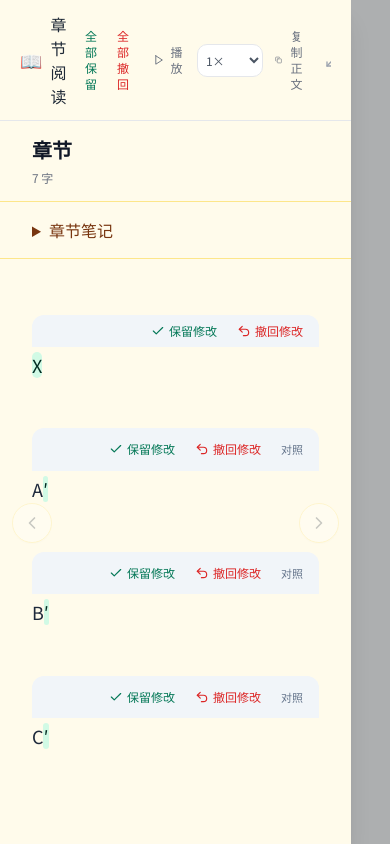
it: NodeDetailDrawer › gives every paragraph its own toolbar and rejects only that paragraph
Expected: the number of buttons "保留修改" is 4, [143, 319, 225, 343]; [101, 437, 183, 461]; [101, 561, 183, 585]; [101, 685, 183, 709]
Click the 2nd button "撤回修改" at x=228, y=449, box [187, 437, 269, 461]
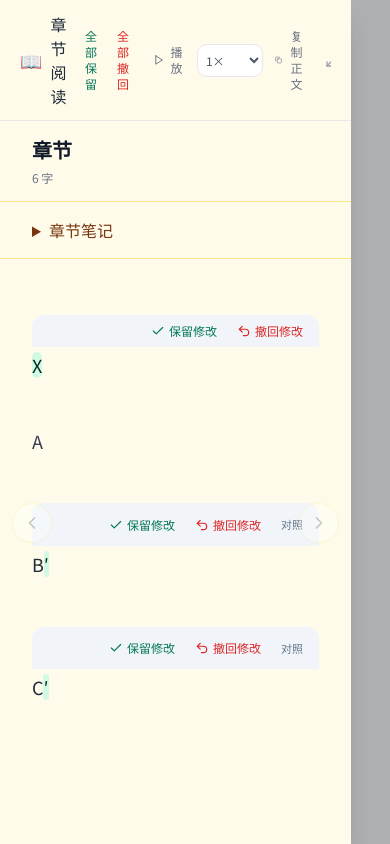
Now the number of buttons "撤回修改" is 3, box [229, 319, 311, 343]; [187, 513, 269, 537]; [187, 636, 269, 660]
